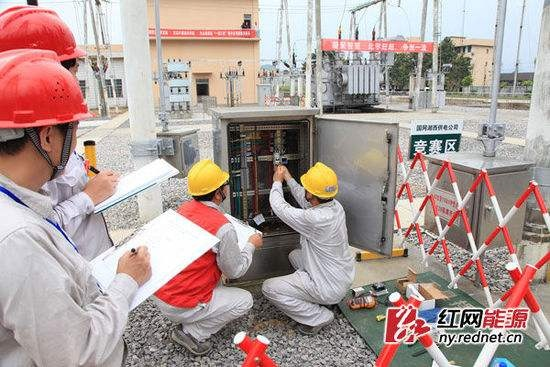red: (2, 46, 87, 186), (1, 4, 84, 82)
yellow: (298, 158, 340, 210), (185, 159, 229, 208)
